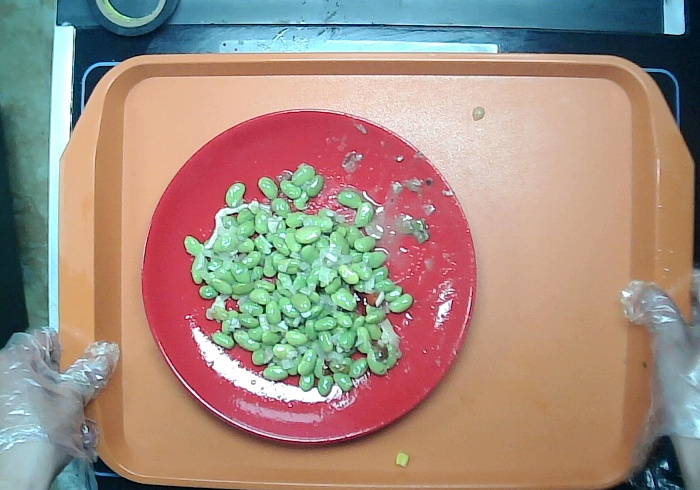HZYJPL-Hong_Se_Yuan_Pan: (135, 94, 487, 452)
